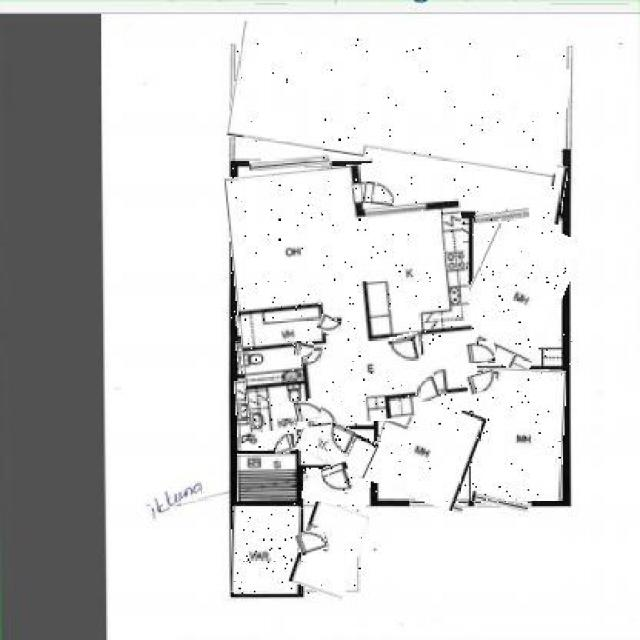door: (323, 463, 354, 495), (324, 424, 354, 454), (389, 334, 420, 363), (363, 182, 395, 206), (297, 531, 328, 555), (466, 372, 497, 394), (294, 398, 321, 422), (414, 376, 438, 402), (468, 340, 495, 363), (317, 315, 340, 334), (274, 432, 292, 454), (295, 340, 314, 358)
window: (372, 205, 436, 223), (251, 156, 331, 170), (409, 492, 465, 511), (470, 494, 528, 509), (474, 209, 529, 223)
zone: (231, 160, 474, 428), (230, 32, 568, 174), (460, 214, 572, 369), (370, 143, 568, 217), (369, 394, 480, 504), (472, 369, 565, 498), (294, 503, 363, 595), (232, 508, 303, 594), (236, 378, 298, 449), (296, 420, 378, 472), (235, 300, 318, 335), (237, 454, 297, 501), (303, 471, 369, 506), (236, 336, 296, 372)
